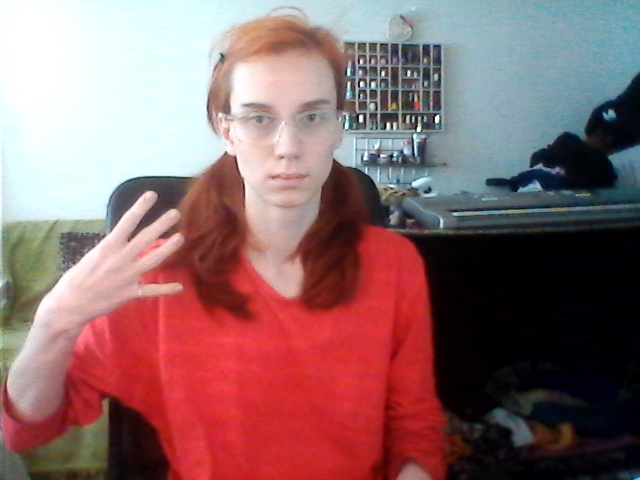styri: (34, 190, 201, 328)
